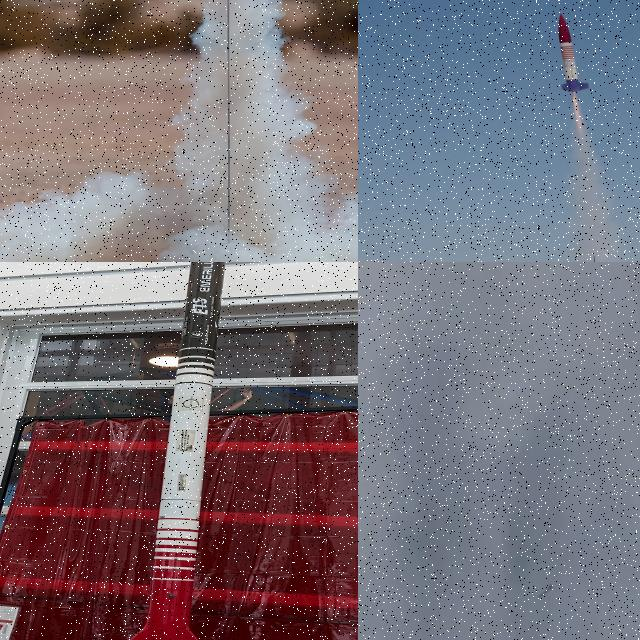Rocket: (129, 262, 226, 640), (558, 13, 590, 93), (538, 584, 552, 600)
